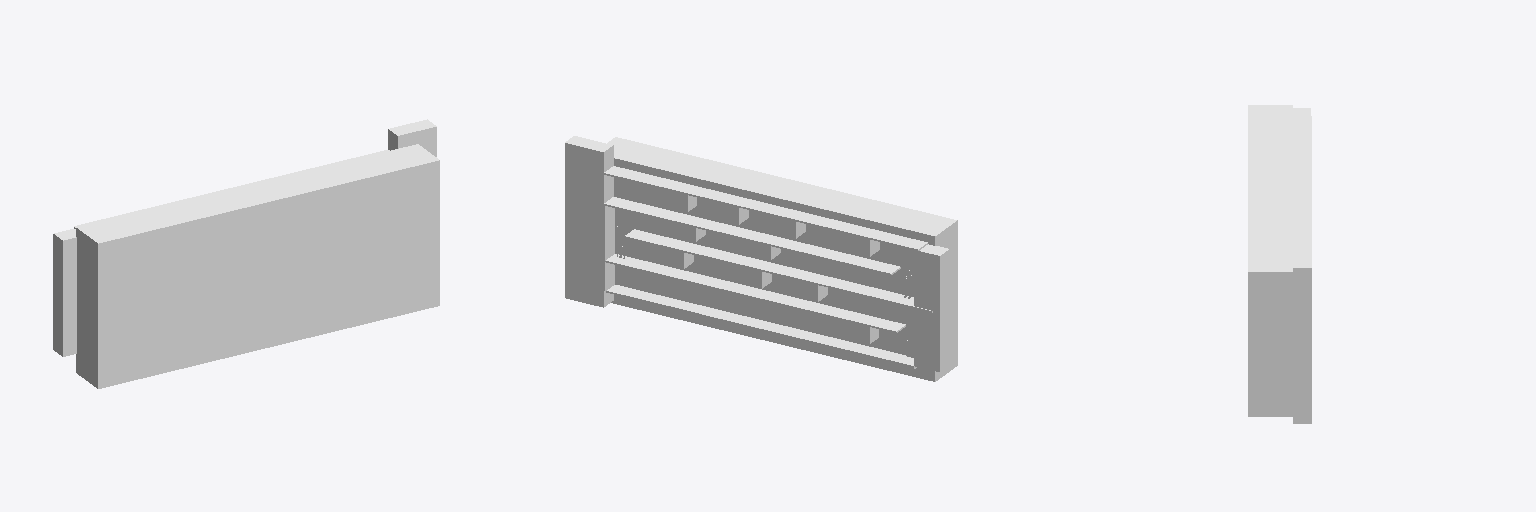
The model's file is MainGame#3.obj.
3 renders of one model, left to right at view 1: azimuth 30°, elevation 25°; view 2: azimuth 150°, elevation 25°; view 3: azimuth 270°, elevation 25°, orthographic.
Parts seen in each view (by area): view 1: Level; view 2: Level, Ground; view 3: Level.
Part boxes in pixels (x1,y1,x2,y2): Level: (53,119,439,388); Level: (565,136,957,381); Ground: (604,197,696,225); Level: (1248,105,1311,423).
Size of the model in its own units: 5662 by 2287 by 836.